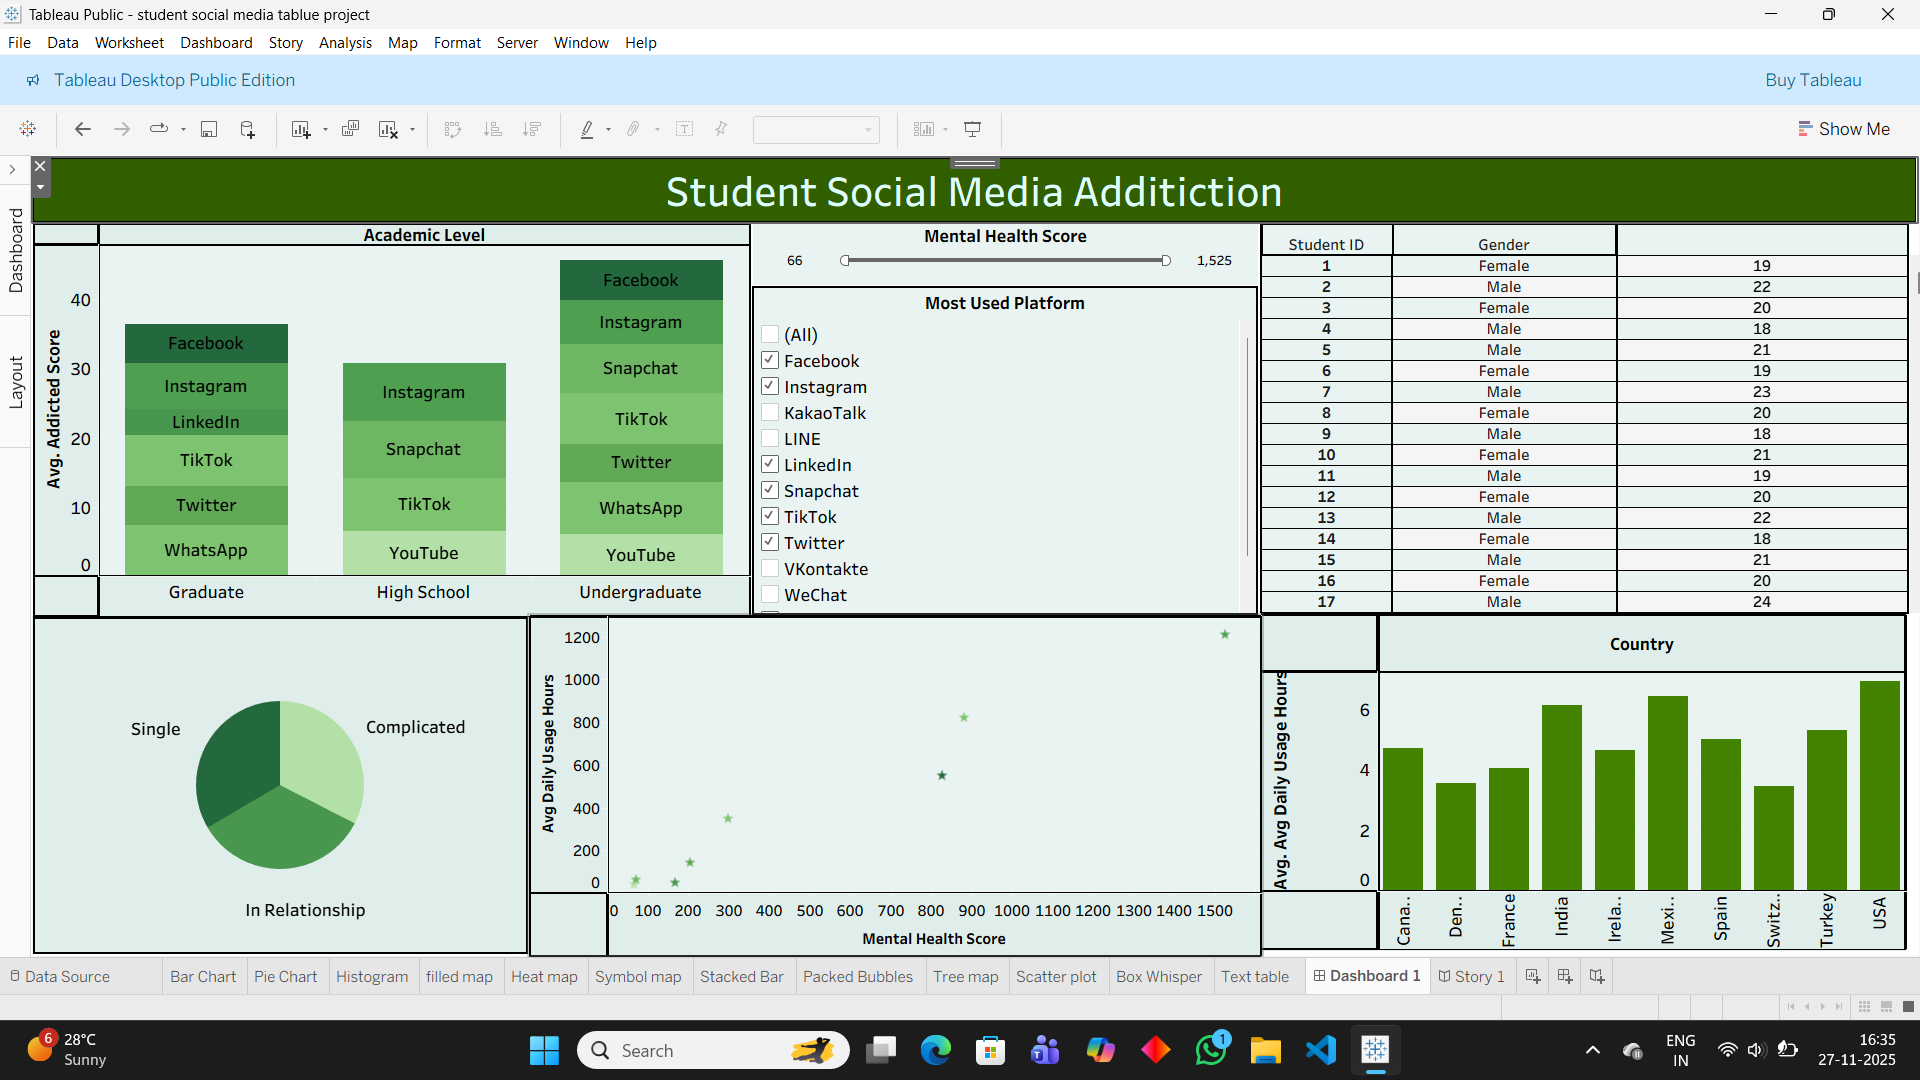

Layout of this report page (visuals, bound fields, positions):
{"tool":"tableau","page":{"name":"Dashboard 1","canvas":[1000,1000],"units":"permille","ordinal":0},"visuals":[{"type":"text","box":[1.2,3.8,997.6,79.9]},{"type":"worksheet","title":"Stacked Bar","mark":"Automatic","rows":["Addicted_Score"],"cols":["Academic_Level"],"box":[1.2,84.9,380.2,491.9]},{"type":"filter","title":"Scatter plot","param":"[federated.17p5dbj1clejds1dvn9ty0mhdxek].[sum:Mental_Health_Score:qk]","box":[382.6,86.1,267.4,76.2]},{"type":"filter","title":"Stacked Bar","param":"[federated.17p5dbj1clejds1dvn9ty0mhdxek].[none:Most_Used_Platform:nk]","box":[382,163.6,267.9,410.7]},{"type":"worksheet","title":"Bar Chart","mark":"Automatic","rows":["Avg_Daily_Usage_Hours"],"cols":["Country"],"box":[651.2,573,343.4,420.7]},{"type":"worksheet","title":"Scatter plot","mark":"Automatic","rows":["Avg_Daily_Usage_Hours"],"cols":["Mental_Health_Score"],"box":[263.7,574.3,388.1,427]},{"type":"worksheet","title":"Pie Chart","mark":"Pie","box":[0.6,575.5,262.5,422]}]}

Visuals, with their boxes on the dashboard's canvas, which has no fixed pixel size, in thousandths of its width and height (x1, y1, x2, y2). These are canvas units, not pixel positions in the 1920x1080 screenshot, which may show the page scaled, cropped or inside an application window:
text: pyautogui.locateOnScreen(1, 4, 999, 84)
"Stacked Bar" worksheet: pyautogui.locateOnScreen(1, 85, 381, 577)
"Scatter plot" filter: pyautogui.locateOnScreen(383, 86, 650, 162)
"Stacked Bar" filter: pyautogui.locateOnScreen(382, 164, 650, 574)
"Bar Chart" worksheet: pyautogui.locateOnScreen(651, 573, 995, 994)
"Scatter plot" worksheet: pyautogui.locateOnScreen(264, 574, 652, 1001)
"Pie Chart" worksheet (Pie marks): pyautogui.locateOnScreen(1, 576, 263, 998)
